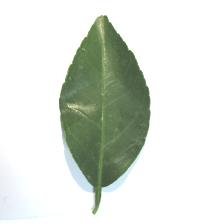healthy: (58, 15, 152, 190)
